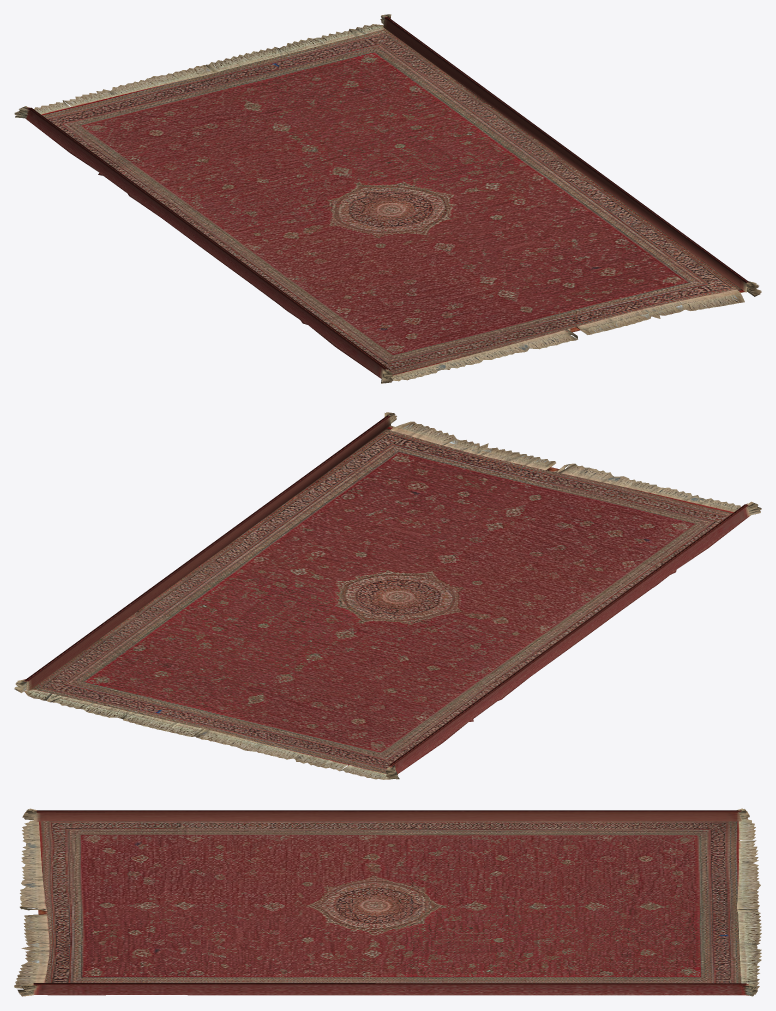
File: tappeto_grande.glb
3 renders of one model, top to bottom at view 1: azimuth 30°, elevation 25°; view 2: azimuth 150°, elevation 25°; view 3: azimuth 270°, elevation 25°, orthographic.
Parts seen in each view (by area): view 1: tappeto_grande; view 2: tappeto_grande; view 3: tappeto_grande.
Boxes of the visible parts, x1,y1,x2,y2 form: tappeto_grande: [14, 14, 761, 383]; tappeto_grande: [14, 412, 761, 779]; tappeto_grande: [14, 808, 761, 996].
Size of the model in its own units: 0.5776 by 0.015 by 0.9995.
Materials: 1 (1 with a texture image).
